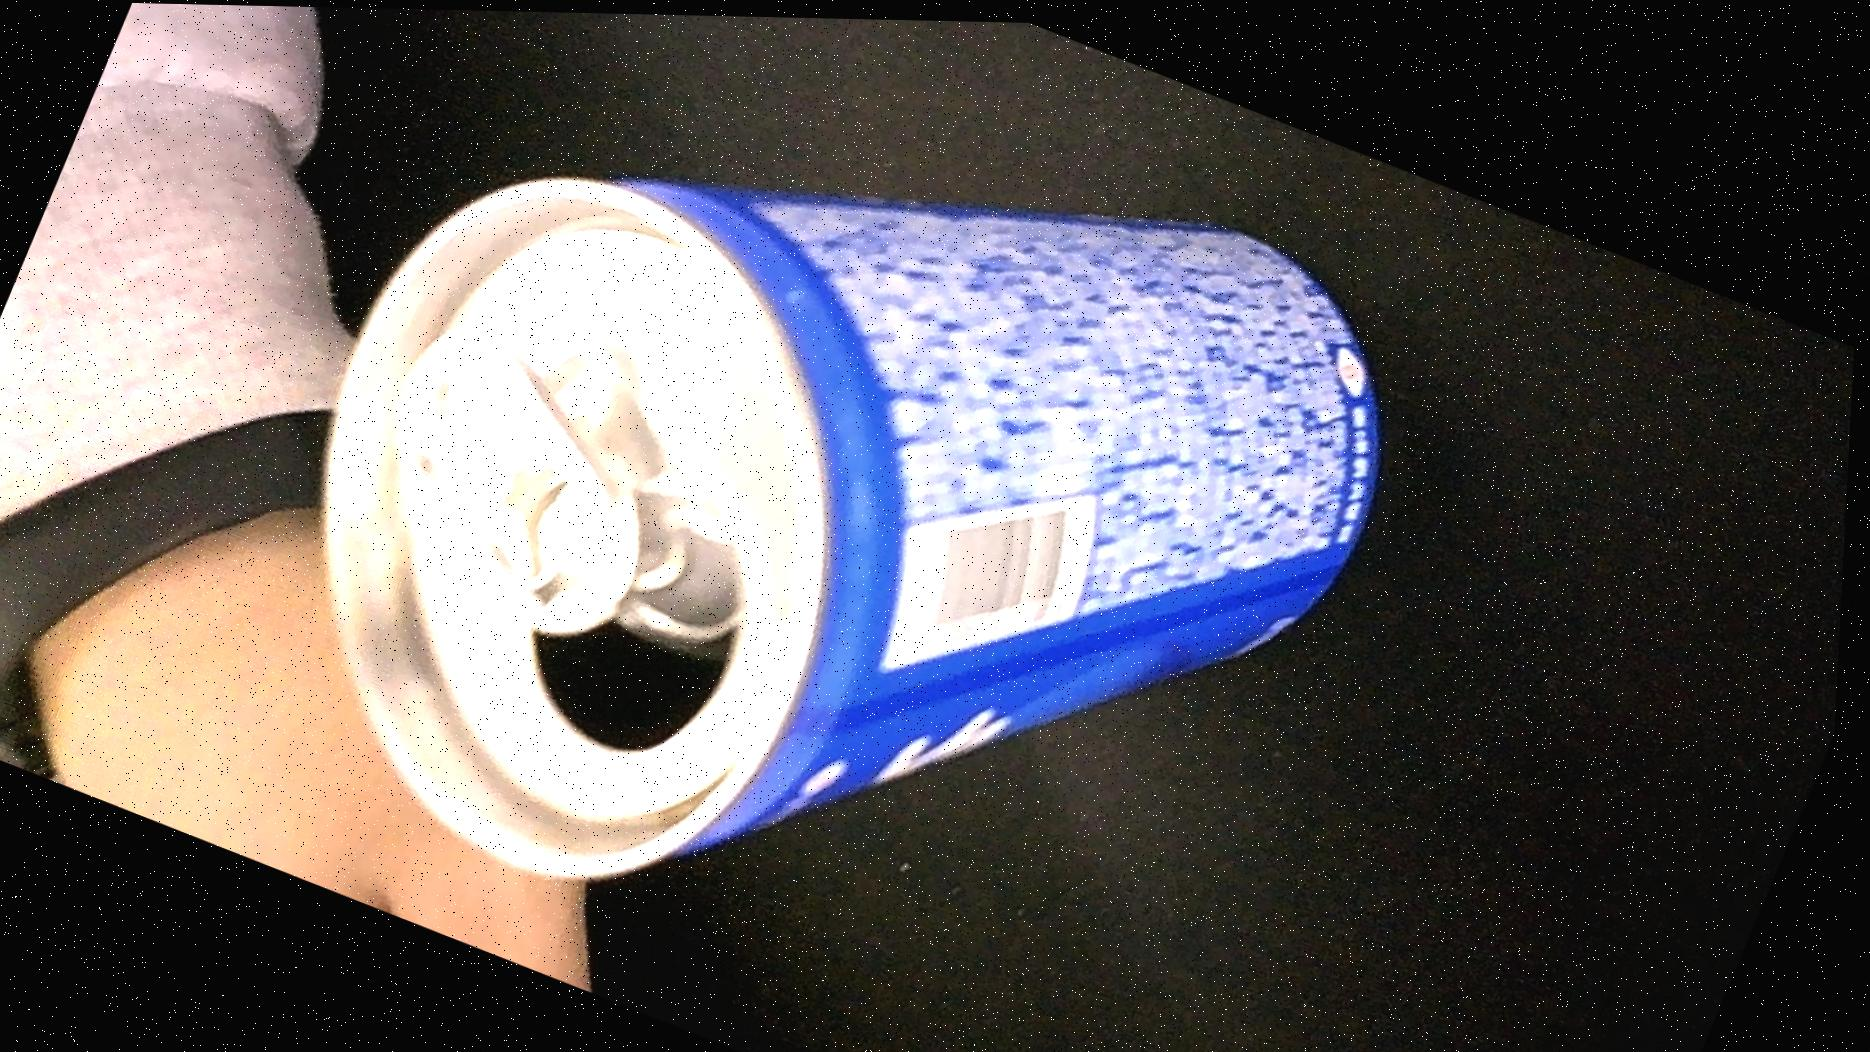letsbe: (184, 4, 1467, 1052)
